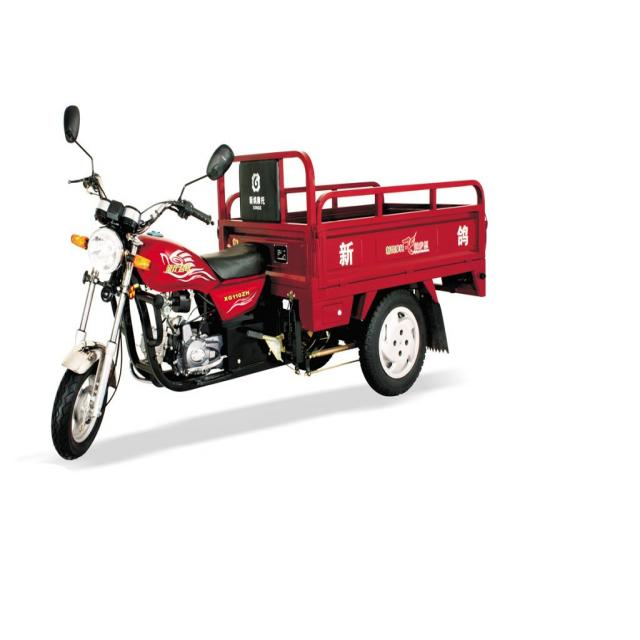tricycle: (46, 103, 487, 459)
